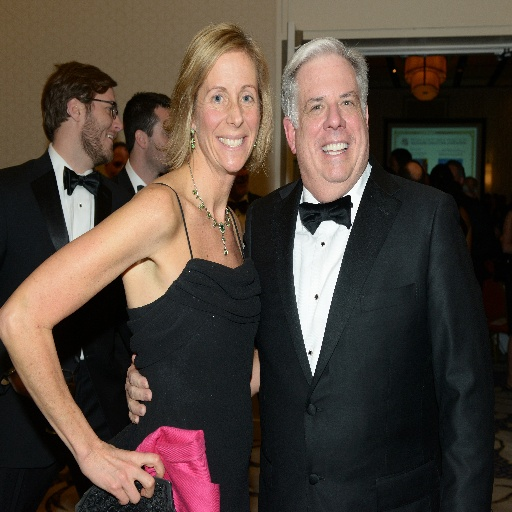hand: (79, 438, 165, 504), (125, 354, 153, 421)
